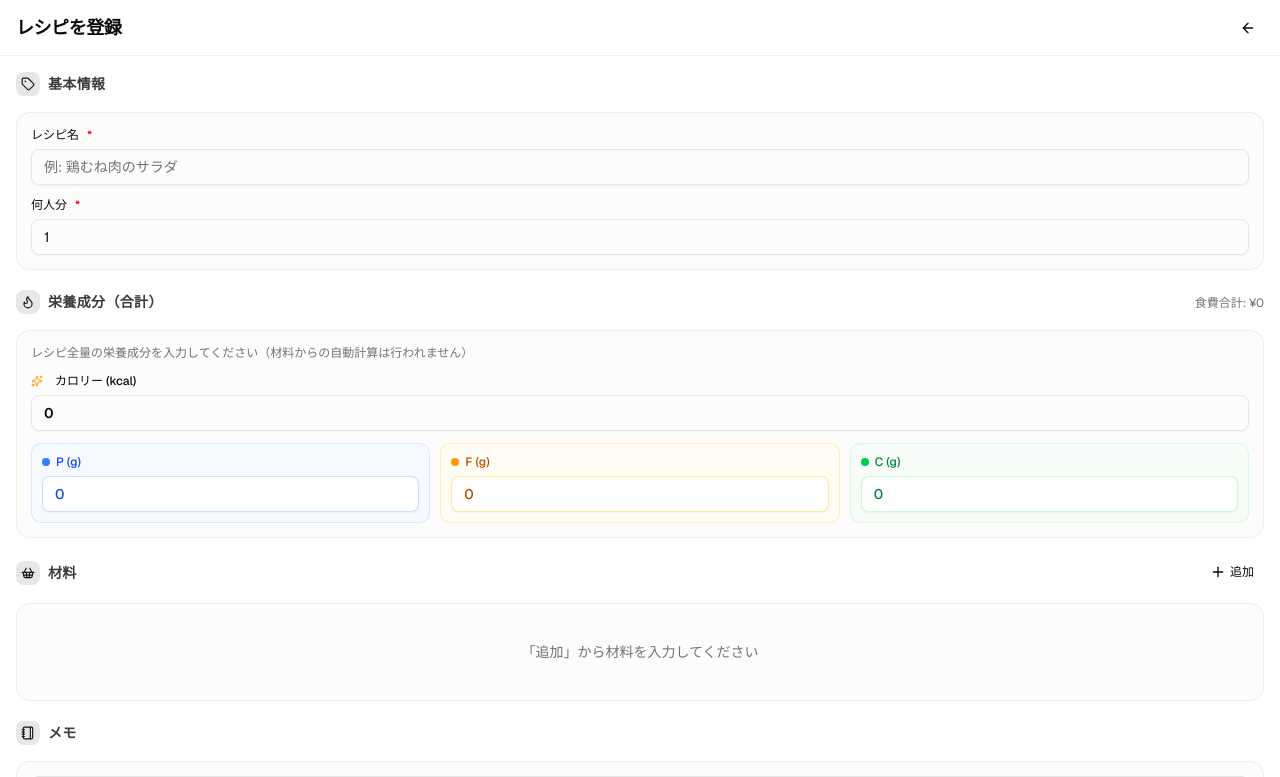
Test: RecipeFormView (S-05 レシピ登録/編集) › 新規 › S-05: 「追加」で材料の行が増え、単価×数量の食費合計がすぐ変わる
Expected: the text "食費合計: ¥0" is shown, x1=1195 y1=295 x2=1264 y2=311
Click the button "追加". click: (1232, 572)
box: x1=1200 y1=558 x2=1264 y2=586
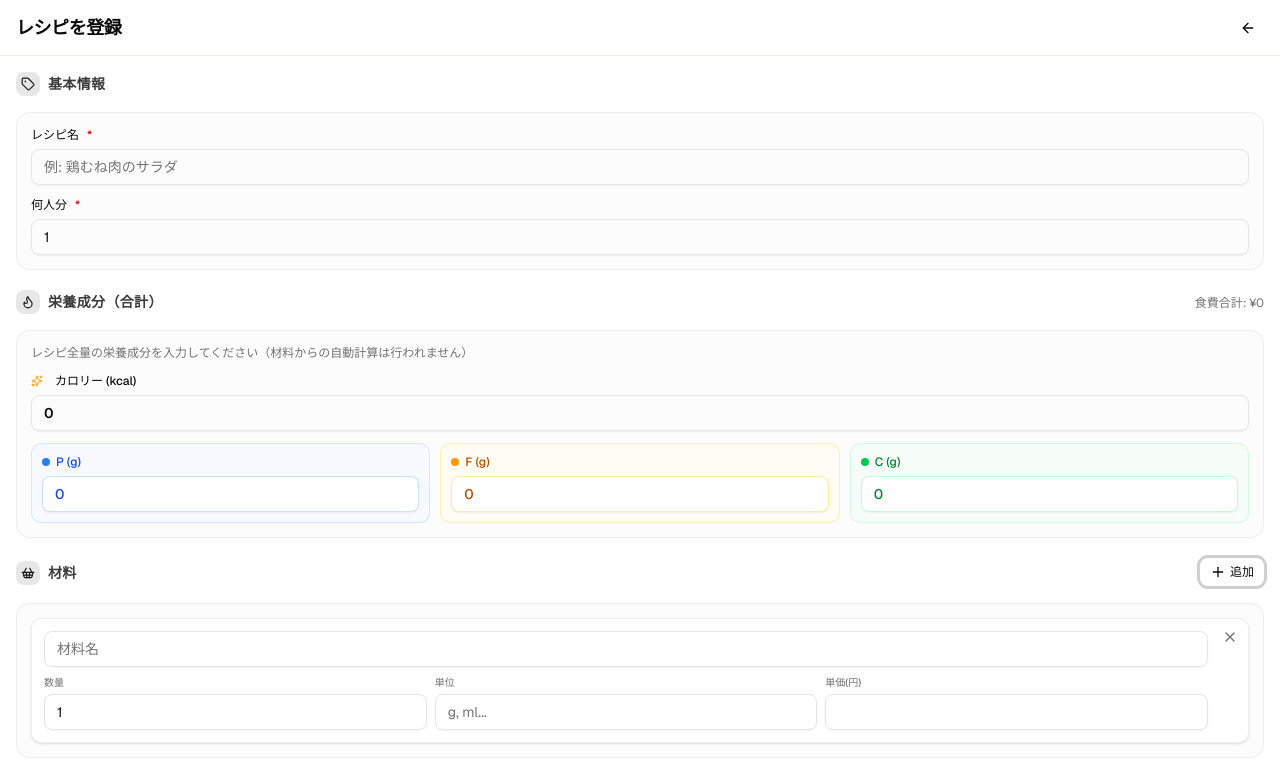
Type "玉ねぎ" into the field labelled "材料名". click: (626, 649)
box: x1=44 y1=631 x2=1208 y2=667
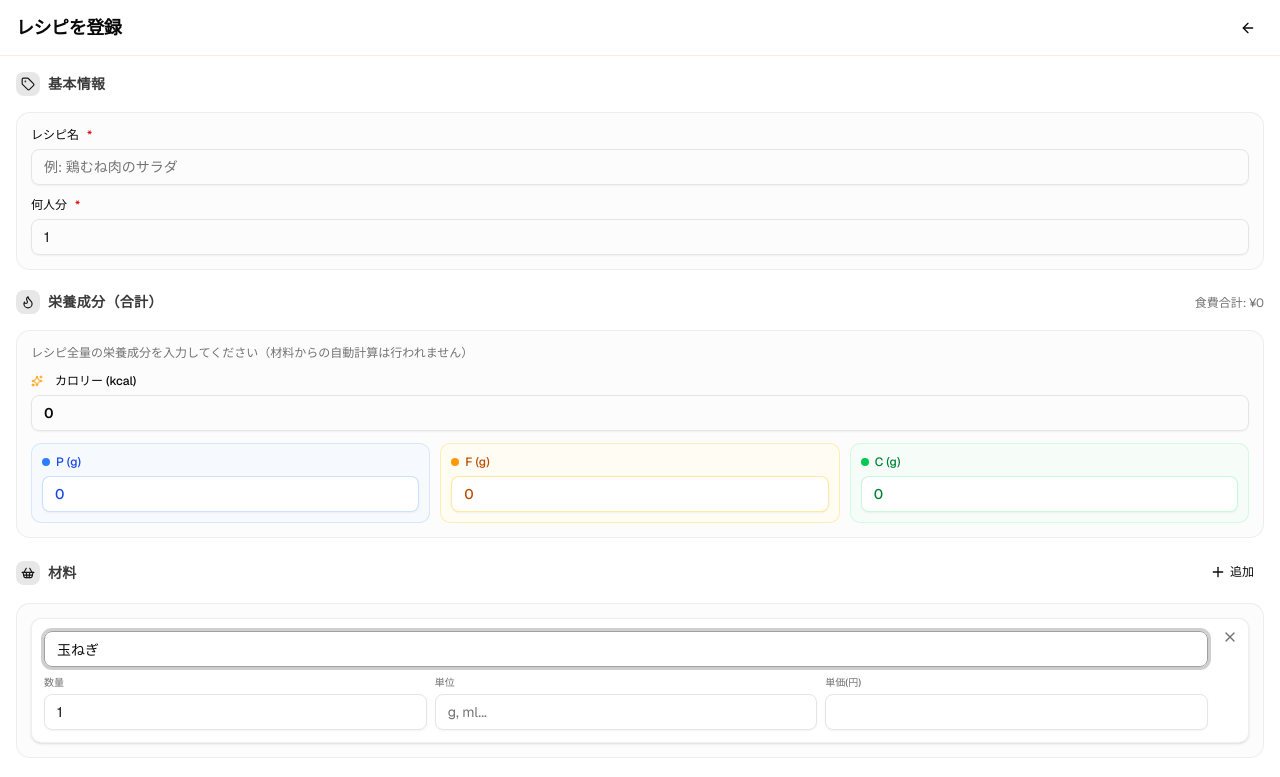
Replace the text in the number field labelled "数量" with "2". click: (235, 712)
box: x1=44 y1=694 x2=427 y2=730
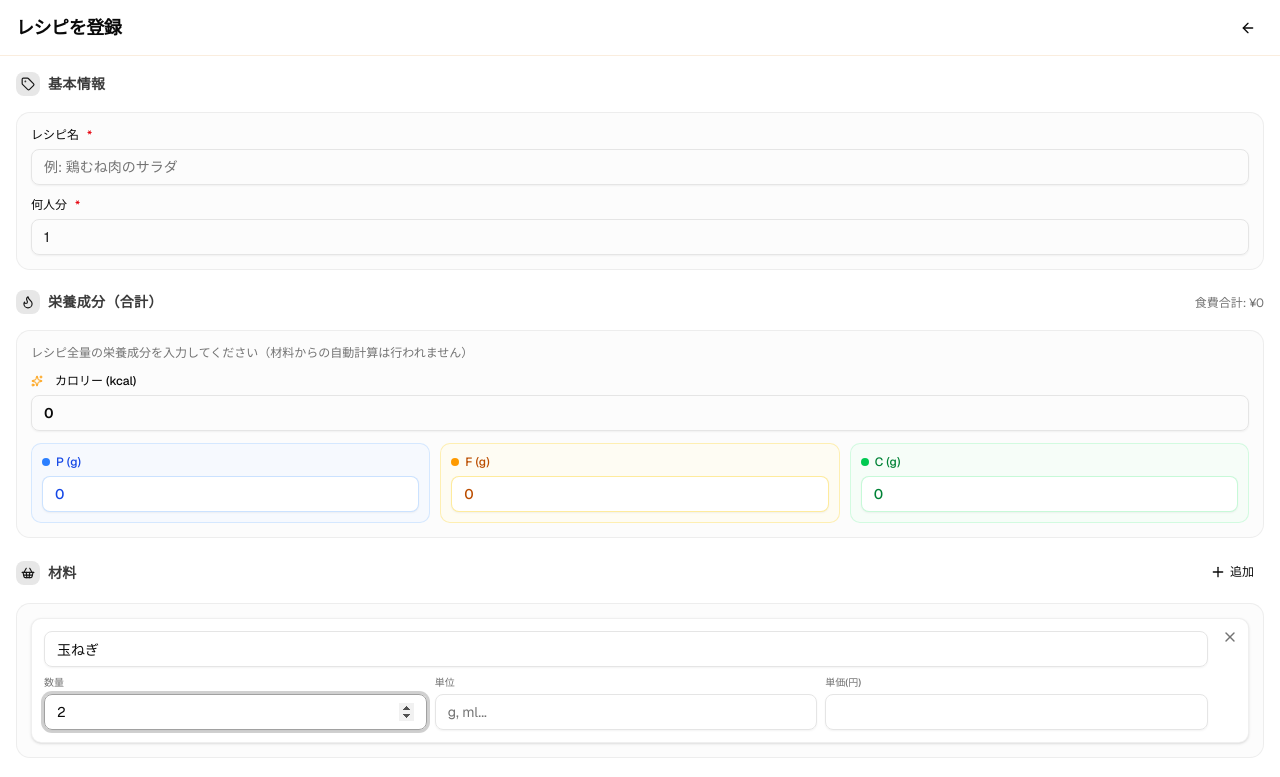
Type "50" into the number field labelled "単価(円)". click: (1017, 712)
box: x1=825 y1=694 x2=1208 y2=730
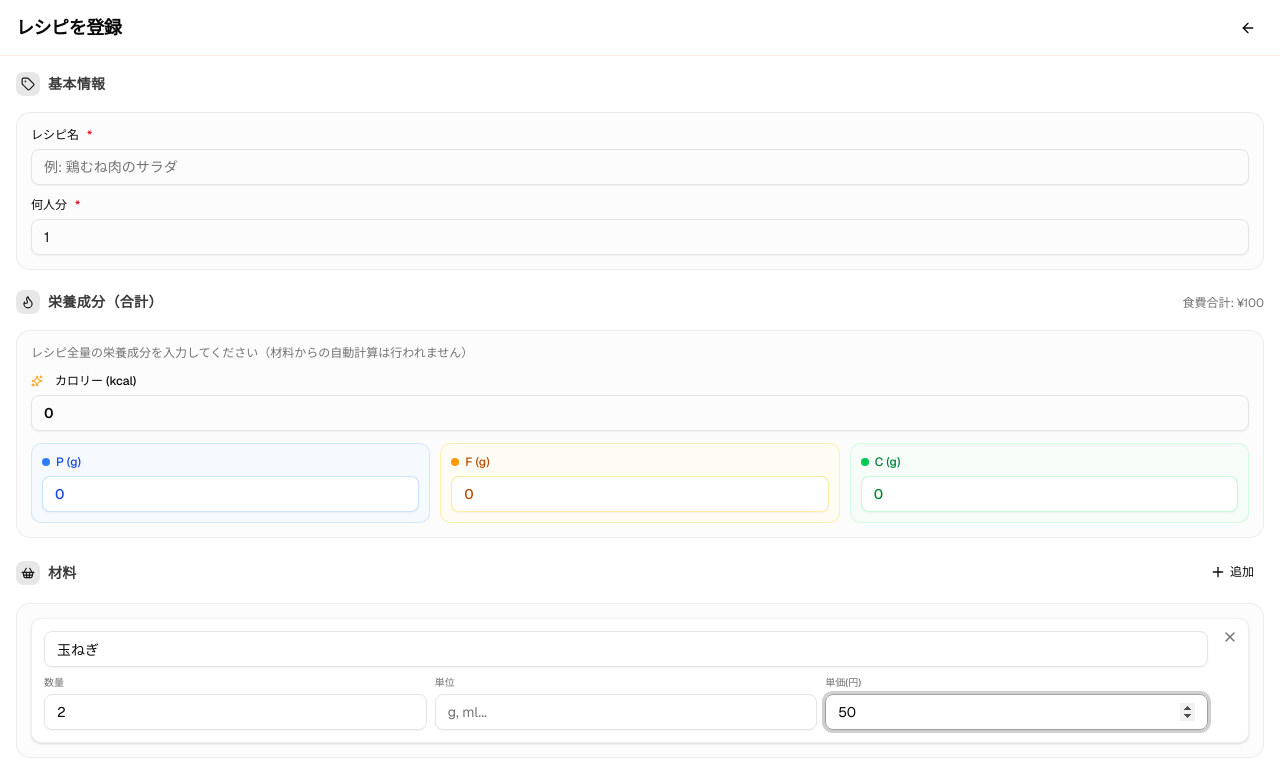
Now the text "食費合計: ¥100" is shown, box x1=1182 y1=295 x2=1264 y2=311
